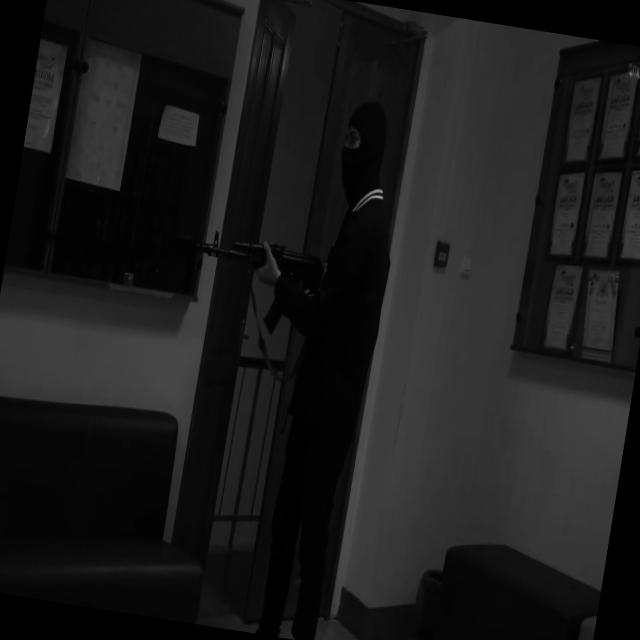gun: (188, 225, 334, 344)
person with a gun: (141, 77, 415, 640)
